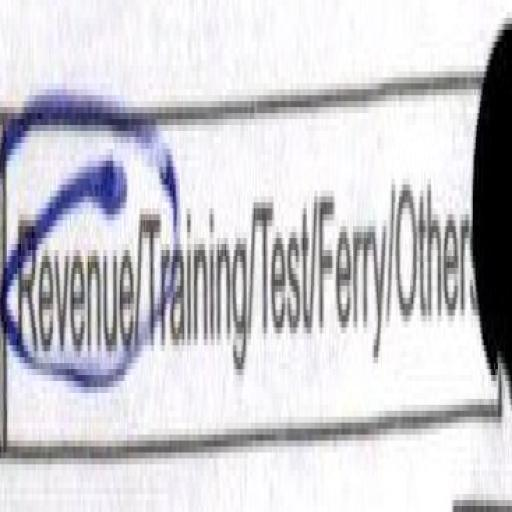check: (0, 48, 138, 506)
